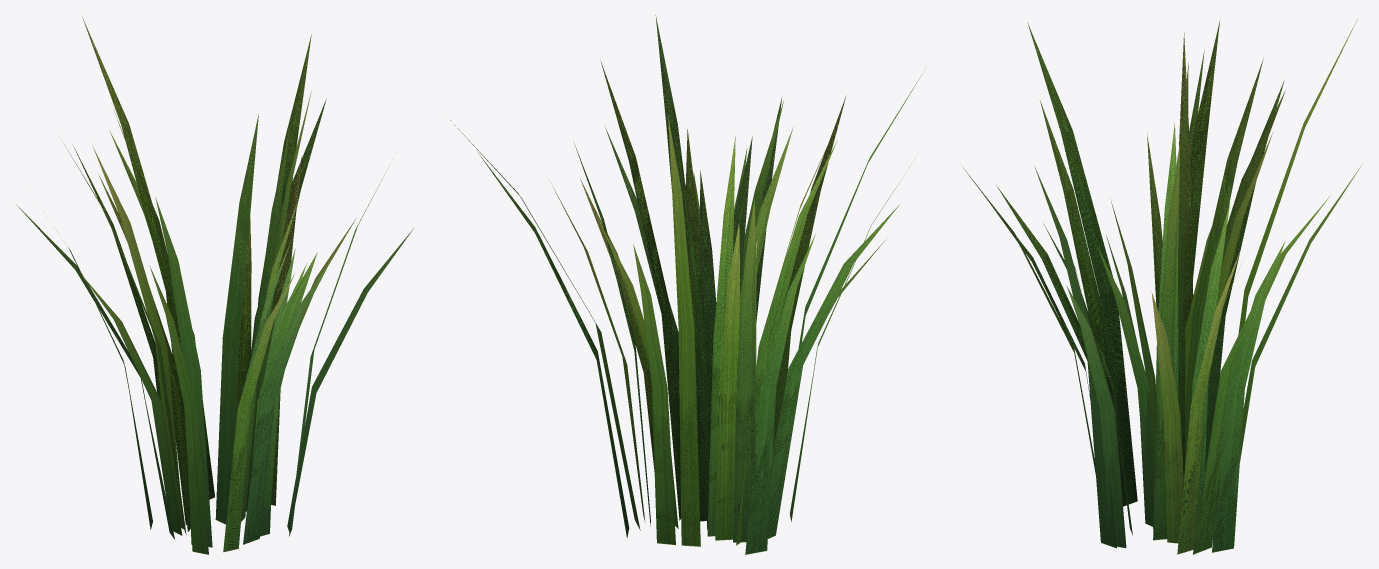
File: Grass_Tall_01.fbx
3 views of the same model, side by side, from view 1: azimuth 30°, elevation 25°; view 2: azimuth 150°, elevation 25°; view 3: azimuth 270°, elevation 25° (orthographic). The views are drawn at different scales.
Parts seen in each view (by area): view 1: Grass_Tall_01; view 2: Grass_Tall_01; view 3: Grass_Tall_01.
Boxes of the visible parts, x1,y1,x2,y2 form: Grass_Tall_01: [16, 16, 414, 554]; Grass_Tall_01: [450, 15, 925, 554]; Grass_Tall_01: [962, 19, 1362, 554].
Size of the model in its own units: 0.6248 by 0.7605 by 0.5779.
Materials: 1 (1 with a texture image).
